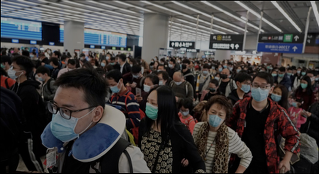with_mask: (49, 98, 92, 142), (251, 81, 270, 103), (206, 108, 226, 128), (144, 96, 159, 120), (6, 64, 19, 81), (107, 82, 121, 94), (270, 89, 282, 102), (240, 81, 251, 94), (142, 81, 153, 93), (179, 107, 190, 117), (220, 71, 229, 81), (157, 75, 164, 87), (36, 74, 45, 83), (207, 85, 217, 93), (173, 79, 182, 87), (131, 72, 139, 80), (300, 81, 307, 90), (277, 71, 285, 78), (180, 63, 188, 70), (167, 62, 174, 69), (291, 101, 298, 108), (271, 71, 277, 78), (213, 76, 220, 82), (201, 68, 207, 75), (100, 61, 105, 68), (286, 70, 291, 76), (295, 70, 301, 75), (301, 71, 306, 76), (104, 55, 109, 60)
